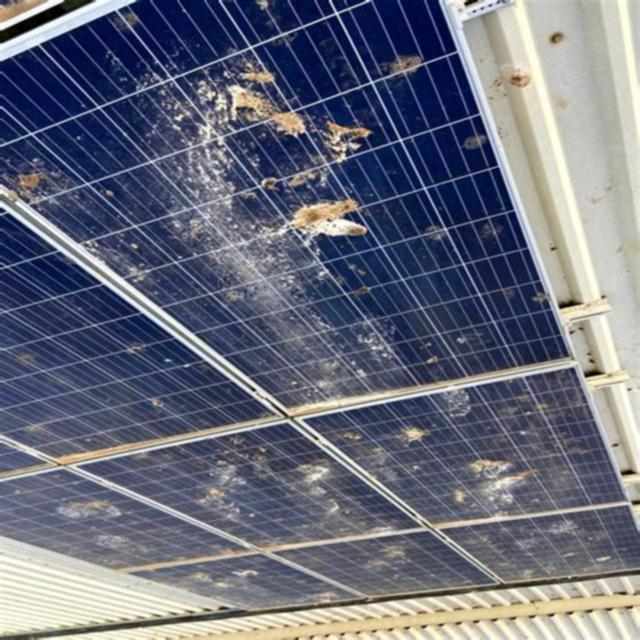soiled: (0, 3, 629, 607)
